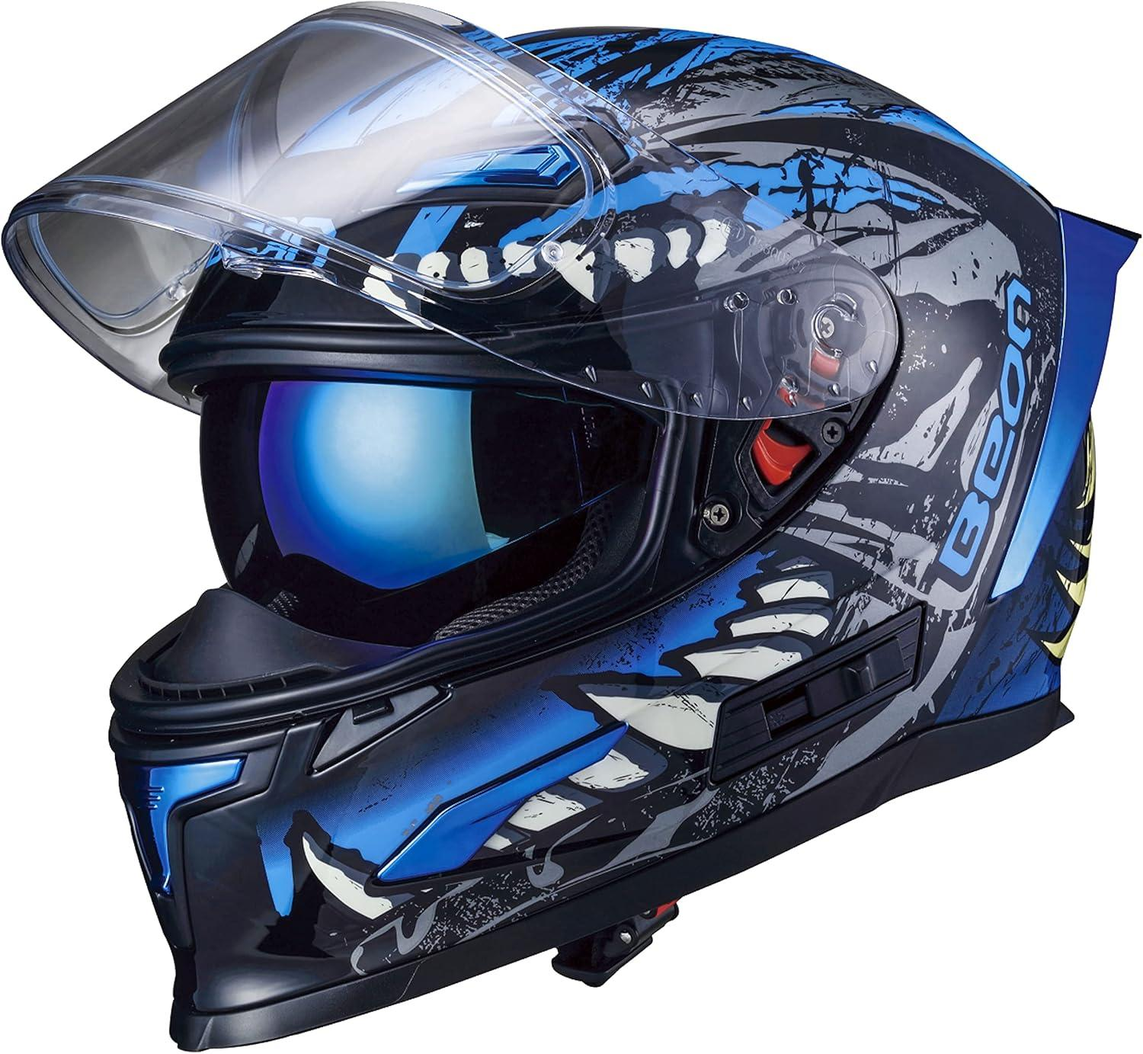Helmet: (4, 0, 1143, 1035)
